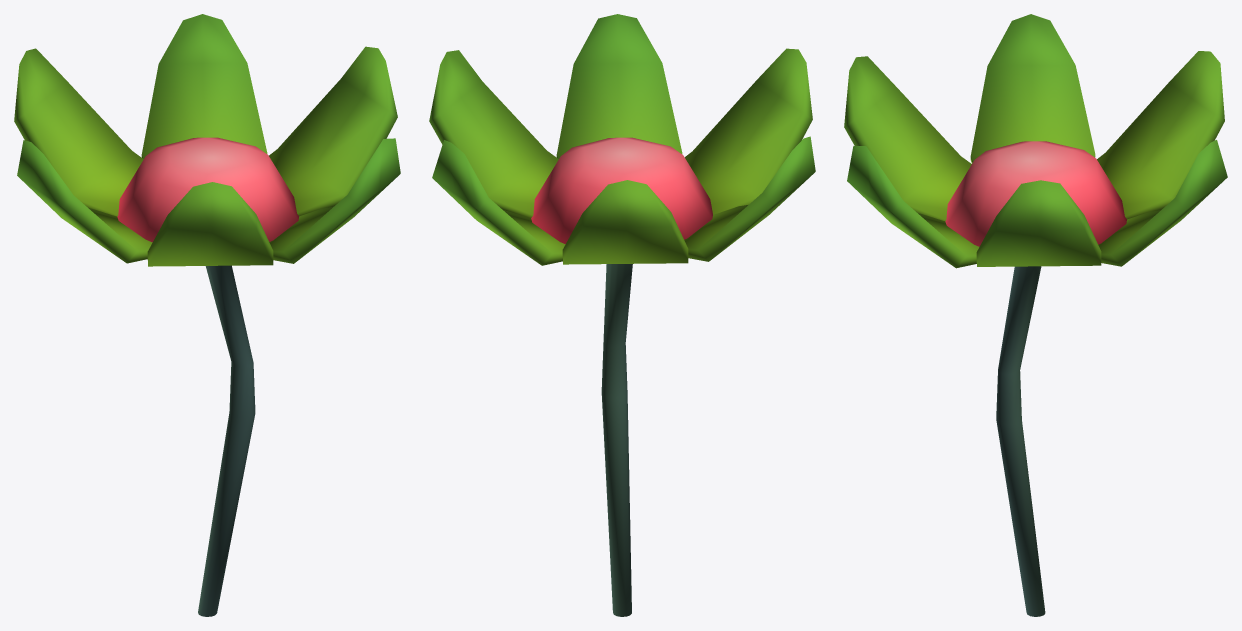
The model's file is Lotus_01.fbx.
The picture shows the model from 3 angles, left to right: view 1: azimuth 30°, elevation 25°; view 2: azimuth 150°, elevation 25°; view 3: azimuth 270°, elevation 25°; orthographic projection.
Visible parts, largest first — view 1: Lotus_01; view 2: Lotus_01; view 3: Lotus_01.
Part boxes in pixels (left/top/right/bottom): Lotus_01: left=14, top=14, right=400, bottom=616; Lotus_01: left=429, top=14, right=815, bottom=616; Lotus_01: left=844, top=14, right=1227, bottom=616.
Bounding box in the file's own units: 87.59 × 124 × 83.31.
